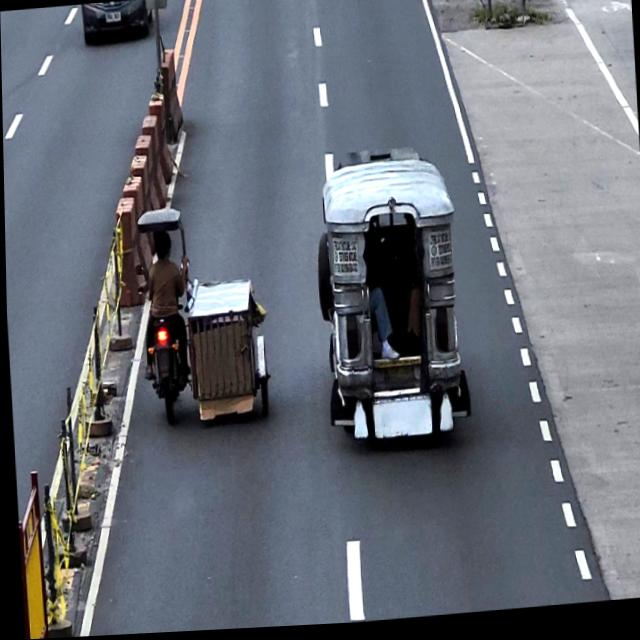Jeep: (309, 144, 471, 453)
Tricycle: (133, 200, 271, 431)
